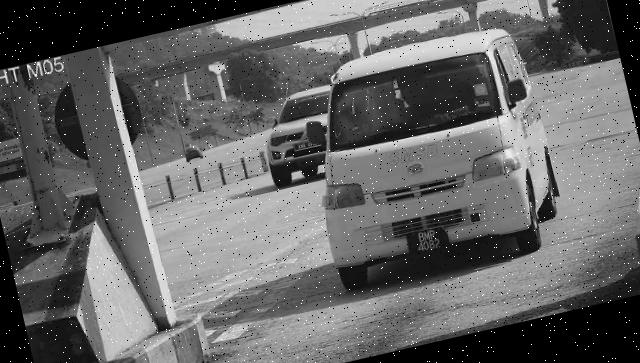License_Plate: (403, 223, 454, 262)
van: (291, 19, 572, 296)
